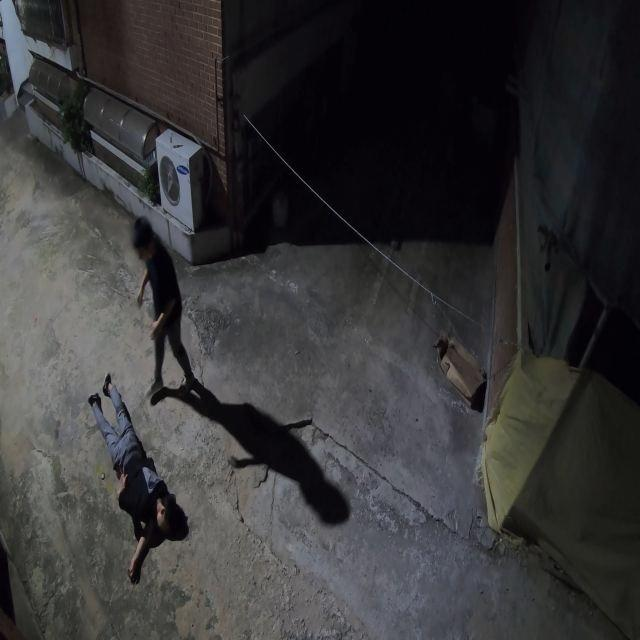fight: (91, 213, 189, 584)
